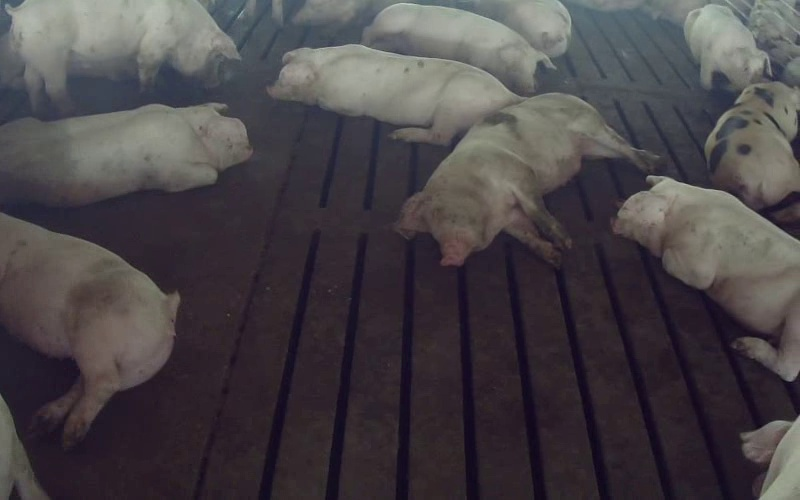pig: (395, 93, 658, 265), (613, 176, 799, 379), (7, 0, 239, 114), (0, 103, 251, 206), (267, 44, 521, 144), (362, 3, 554, 94), (705, 82, 799, 209), (684, 4, 771, 90)
